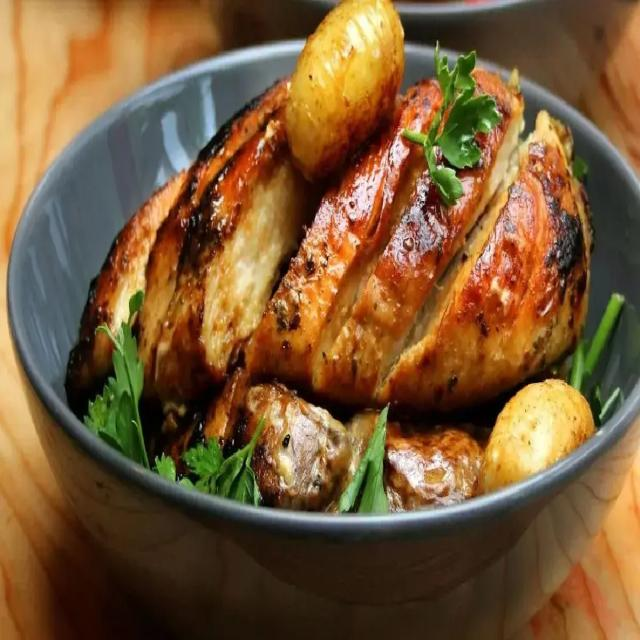carne de cerdo: (202, 108, 587, 386)
